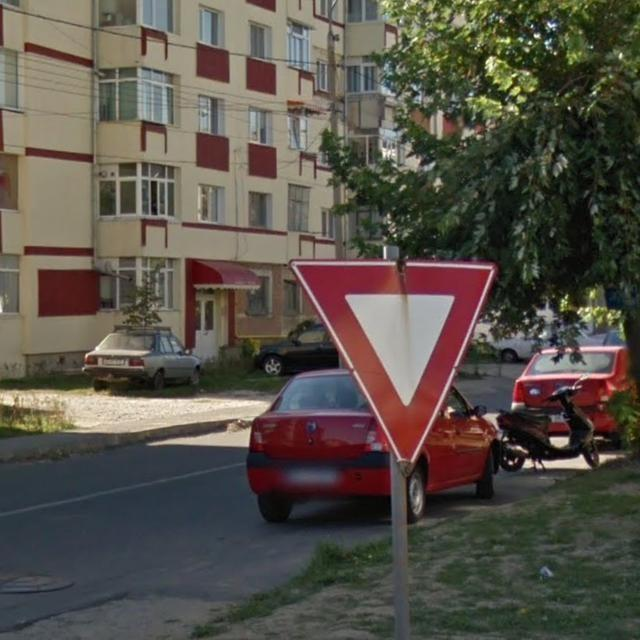prio_give_way: (285, 256, 495, 472)
